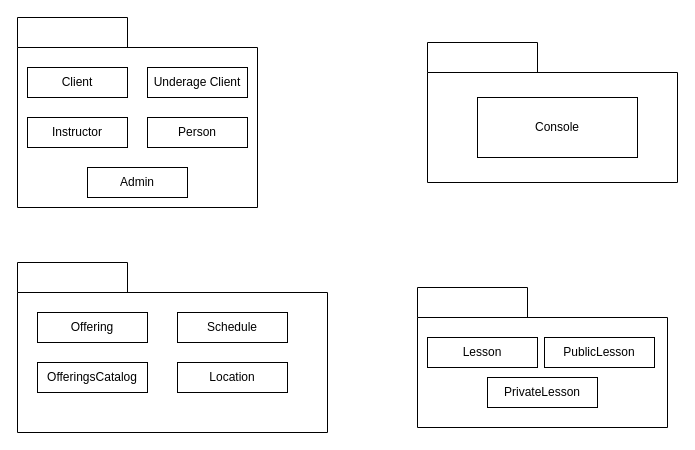
Some shapes in this 695 by 450 pixel diagram are drawn without their labels. Here are the shapes that lost their labels. From the top down, the box of each, then its label:
(16, 16, 258, 208): Users
(426, 42, 678, 182): Interface
(16, 262, 328, 432): OfferingManagement
(416, 286, 668, 428): LessonManagement
